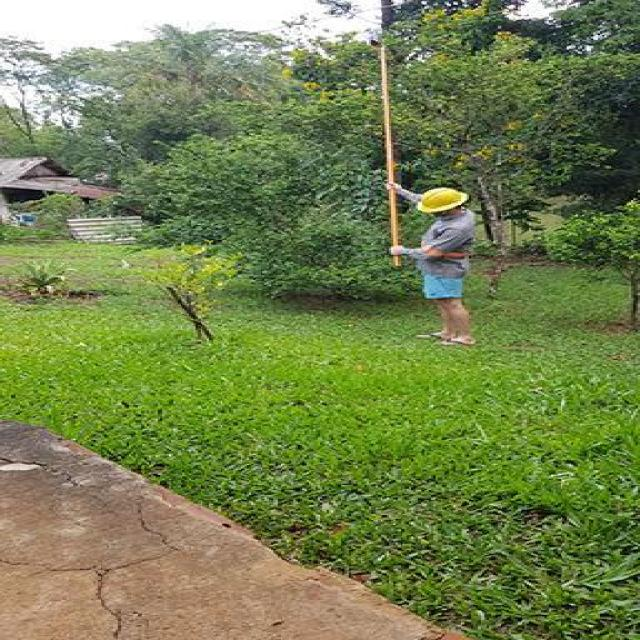helmet: (415, 186, 469, 219)
